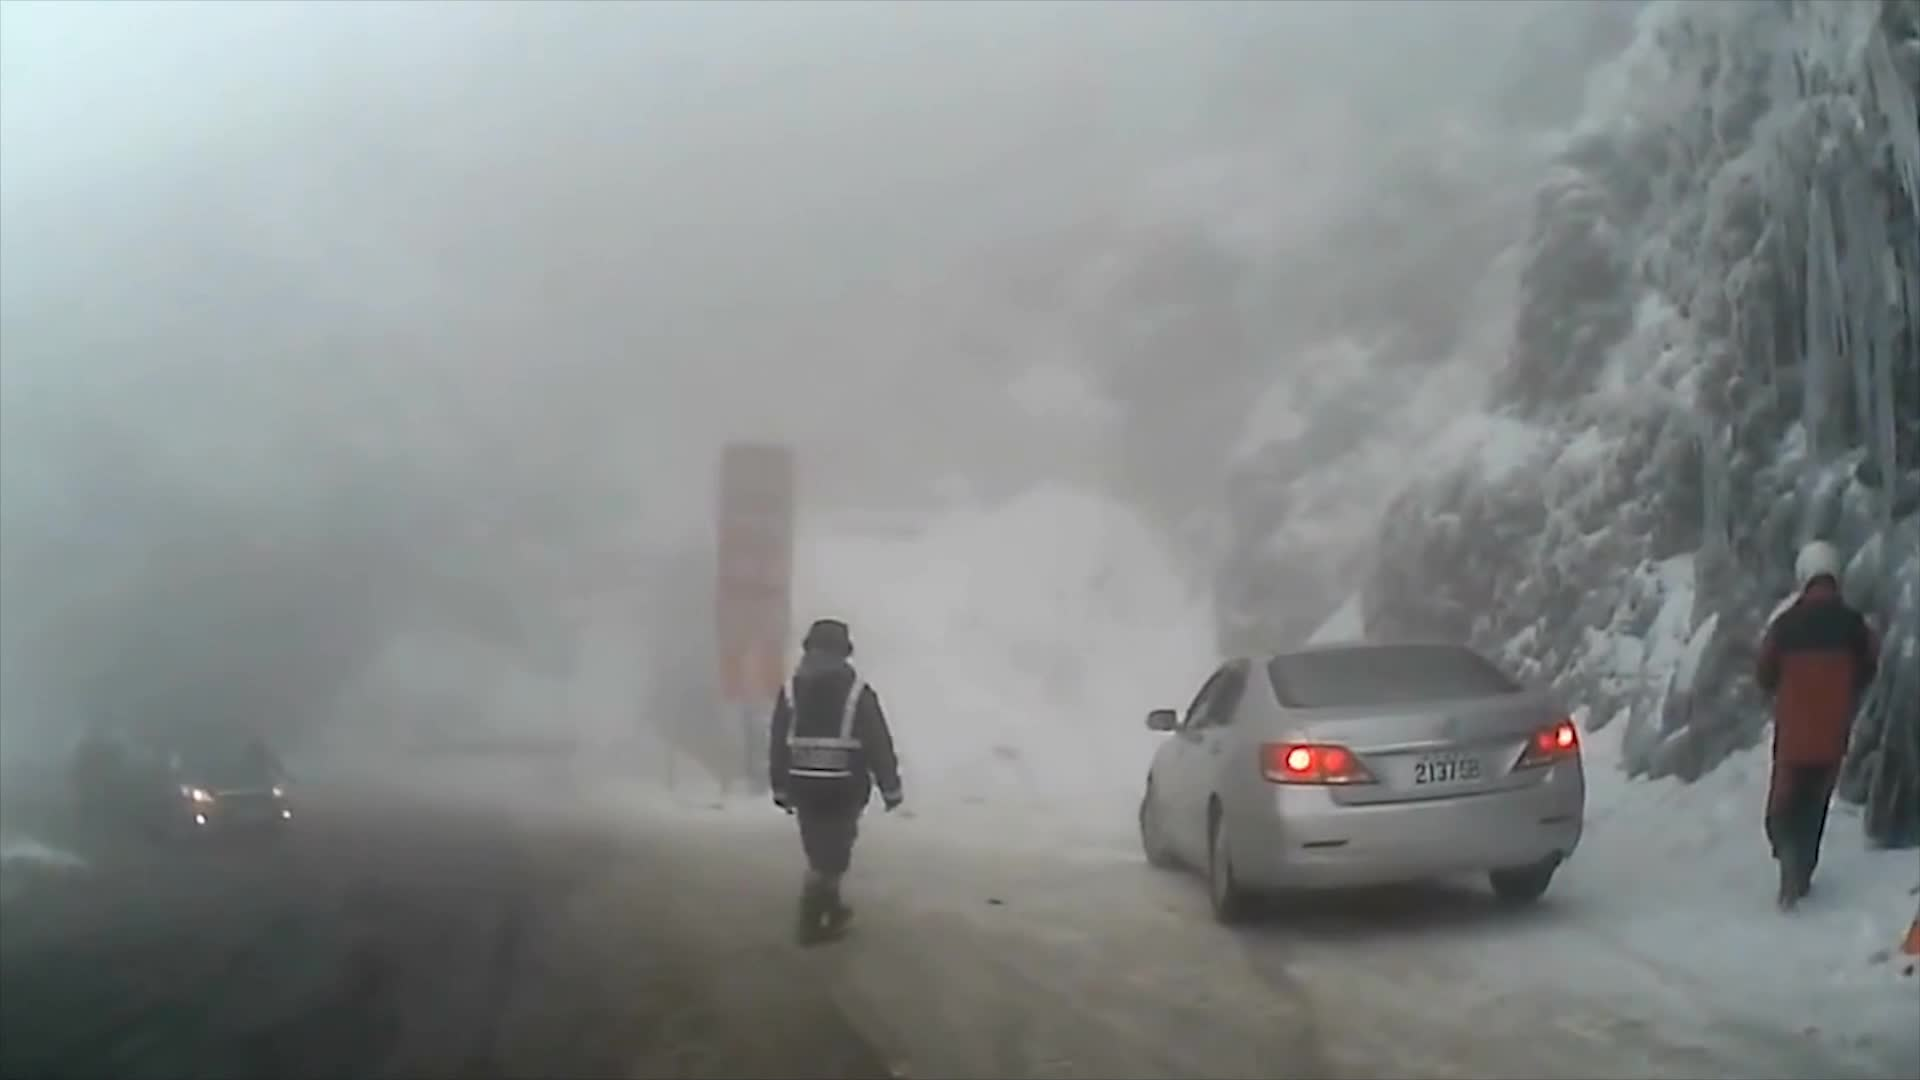pedestrian: (768, 619, 917, 945), (1751, 534, 1872, 914)
vehicle: (1134, 634, 1583, 921)
